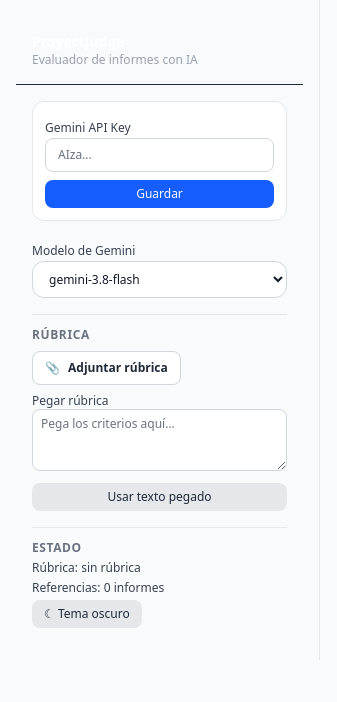
Test: Sidebar › envia el texto de rubrica pegado como borrador
Type "Criterio: rigor, 10 puntos." into the text box labelled "Pegar rúbrica" at (160, 440), box [32,409,287,471]
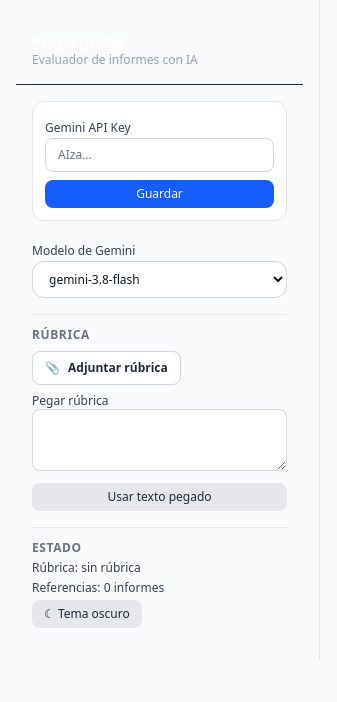
Click the button "Usar texto pegado" at (160, 497), box [32,483,287,511]
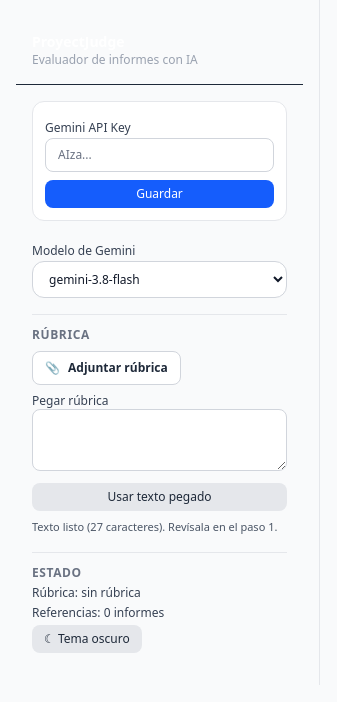
Check: the message shows "27 caracteres", box [32,519,277,534]
